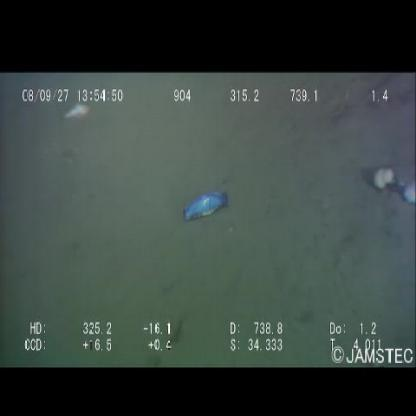Rác: (175, 178, 233, 237)
